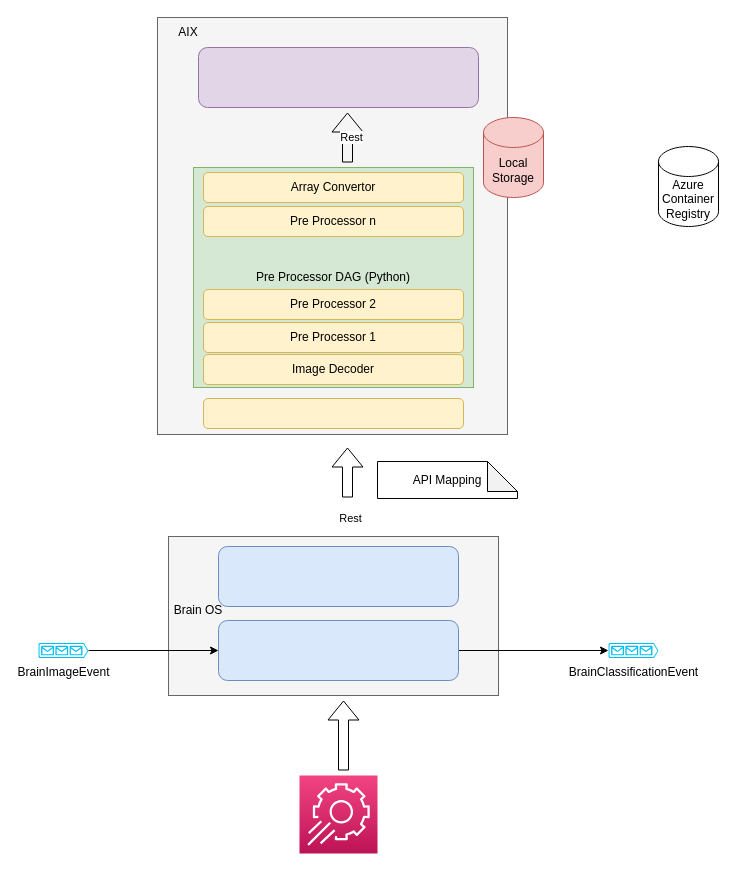
Image size: 736x892. Some labels were removed from this diagram. The shapes that lost their labels are listed below. From the top down, each one's centre as x and y in pixels, then its label:
the point at 338,77: ML Flow Generated Container (Python)
the point at 333,413: API
the point at 338,576: Translation Layer??
the point at 338,650: Event to Primitive Converter (Java)
the point at 338,814: Schema Config
